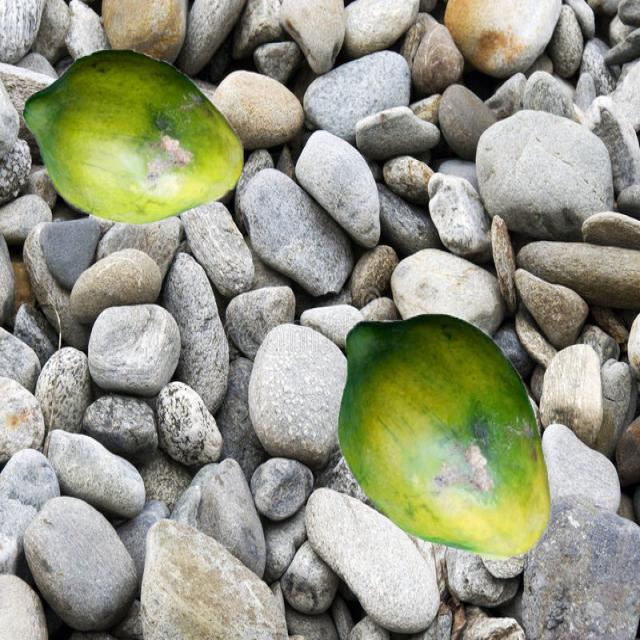Pepaya rippen: (326, 318, 555, 574), (11, 28, 254, 250)
